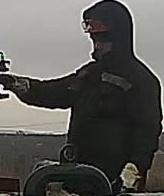gloves: (112, 159, 146, 196), (0, 73, 31, 98)
helmet: (81, 11, 113, 36)
vest: (69, 55, 160, 162)
